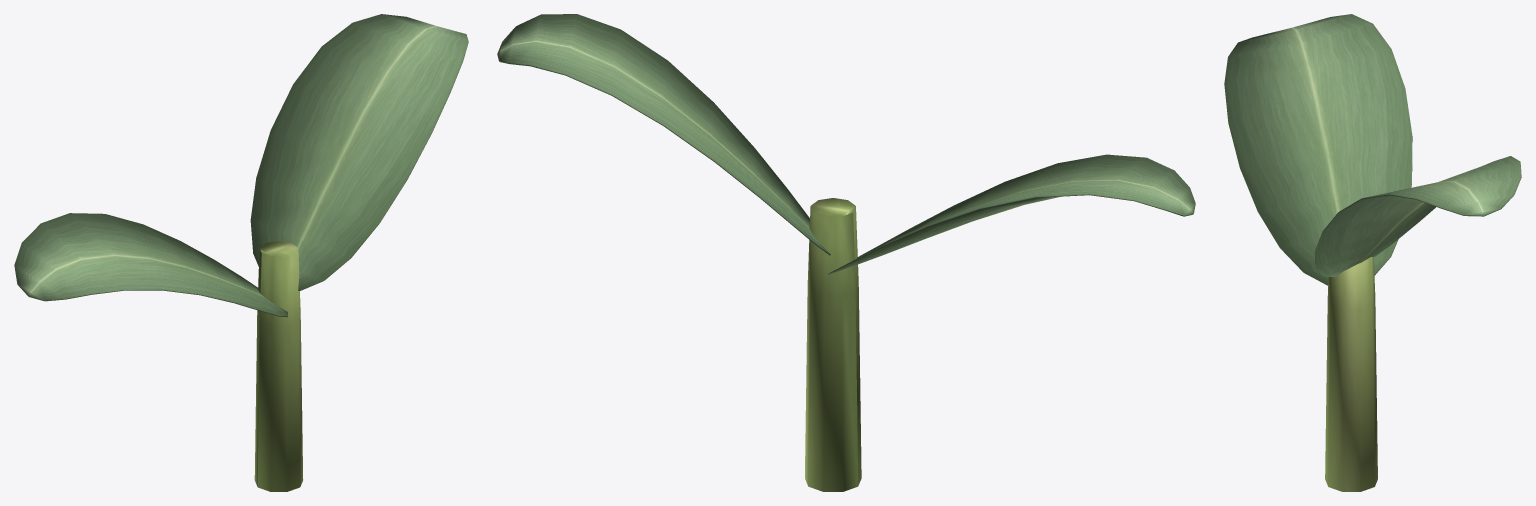
The model's file is NP_Lavender_Sprout.fbx.
The picture shows the model from 3 angles, left to right: view 1: azimuth 30°, elevation 25°; view 2: azimuth 150°, elevation 25°; view 3: azimuth 270°, elevation 25°; orthographic projection. The views are drawn at different scales.
Parts seen in each view (by area): view 1: NP_Lavender_Sprout; view 2: NP_Lavender_Sprout; view 3: NP_Lavender_Sprout.
Boxes of the visible parts, bbox=[...] form: NP_Lavender_Sprout: bbox=[14, 14, 468, 491]; NP_Lavender_Sprout: bbox=[497, 14, 1195, 491]; NP_Lavender_Sprout: bbox=[1224, 14, 1521, 491].
Bounding box in the file's own units: 21.61 × 14.83 × 9.96.
Materials: 1 (1 with a texture image).
